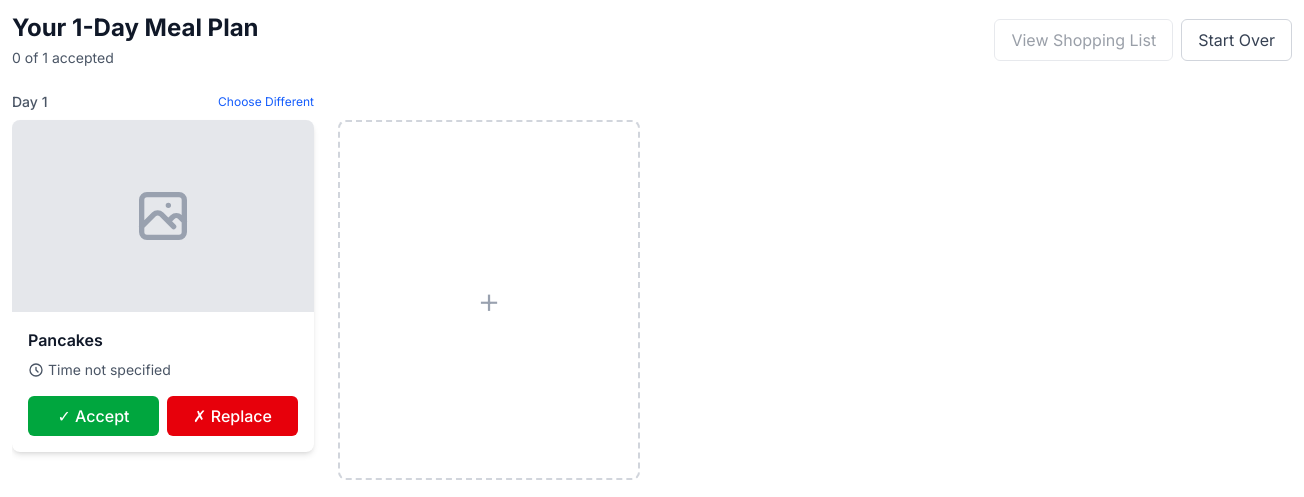
Test: MealPlanView acceptance state › Choose Different renders the replacement in the accepted state
// Open RecipeSelector for slot 0
Click the button "Choose Different" at (266, 102), box [218, 94, 314, 110]
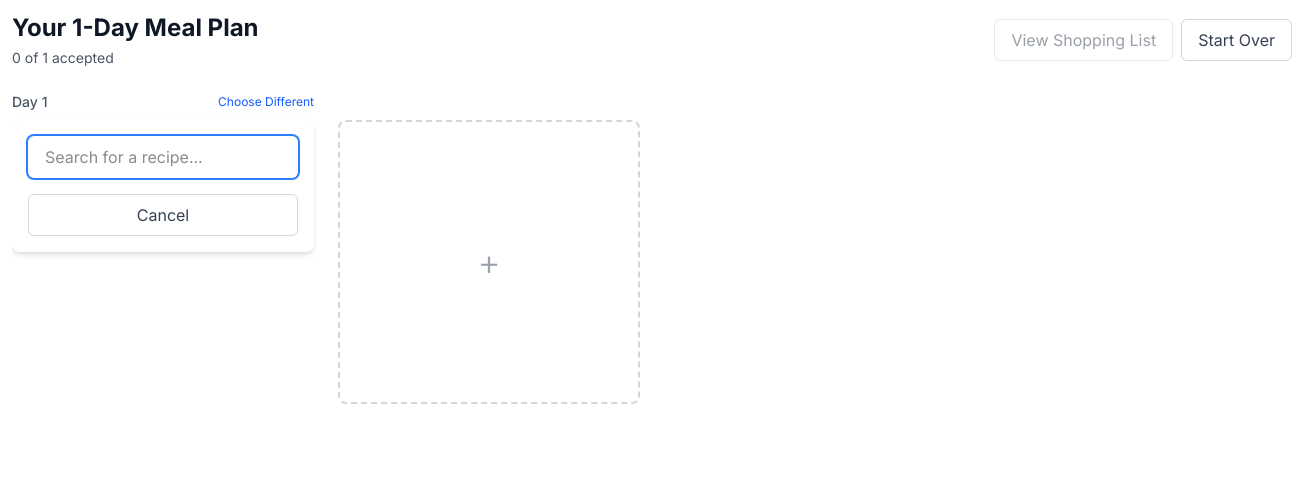
// Type in the search box
Type "French" into the field with placeholder "Search for a recipe..." at (163, 157), box [28, 136, 298, 178]
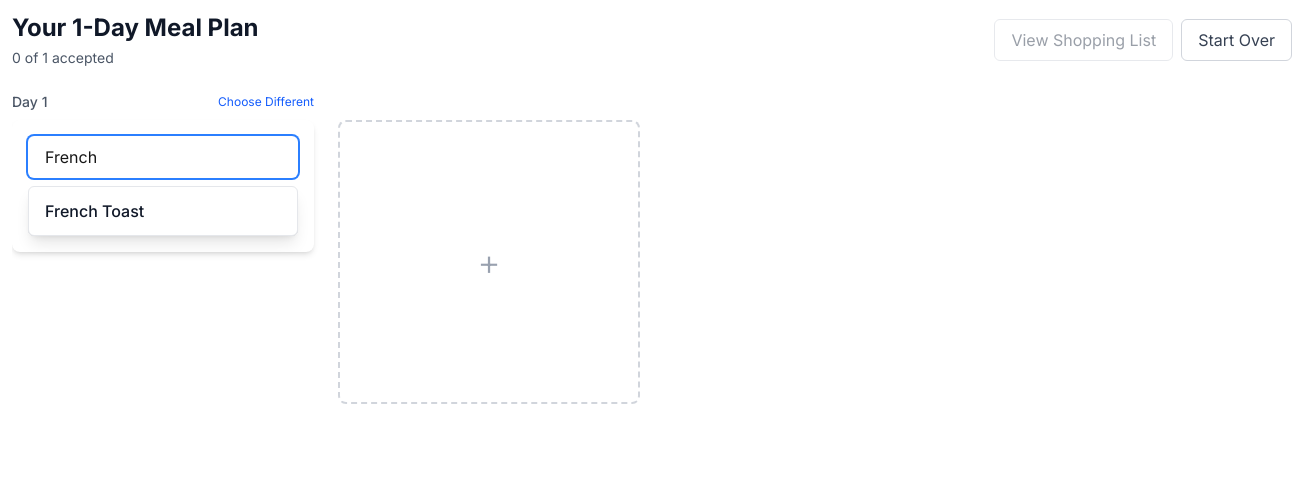
expect the text "French Toast" is shown: met, box [45, 201, 144, 221]
// Select the replacement
Click the button "French Toast" at (95, 211), box [29, 187, 297, 235]
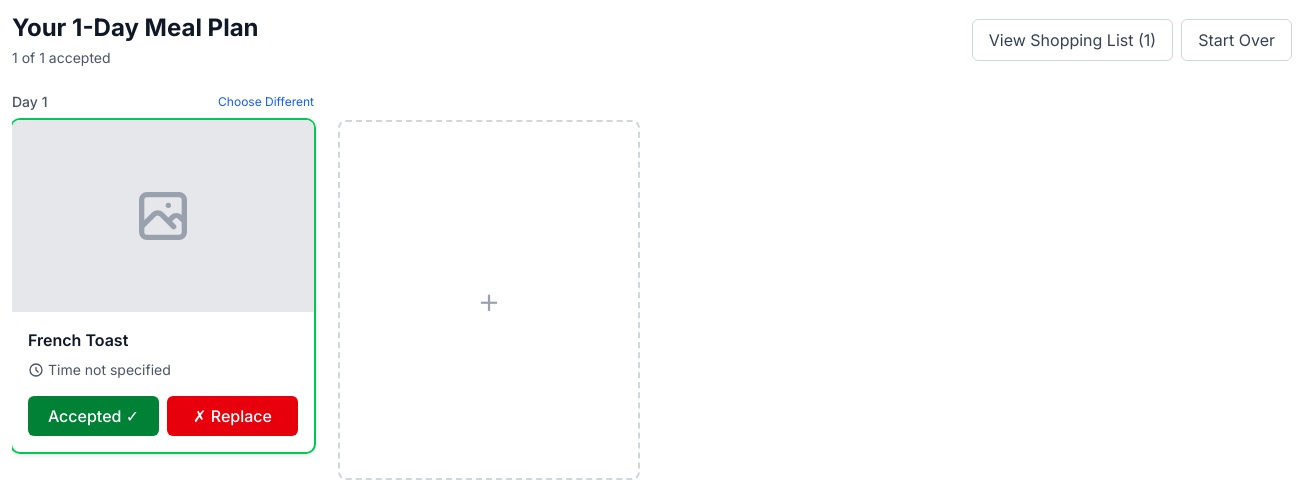
expect the text "Accepted ✓" is shown: met, box [28, 396, 159, 436]
